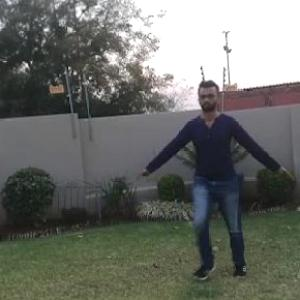land: (157, 94, 273, 254)
